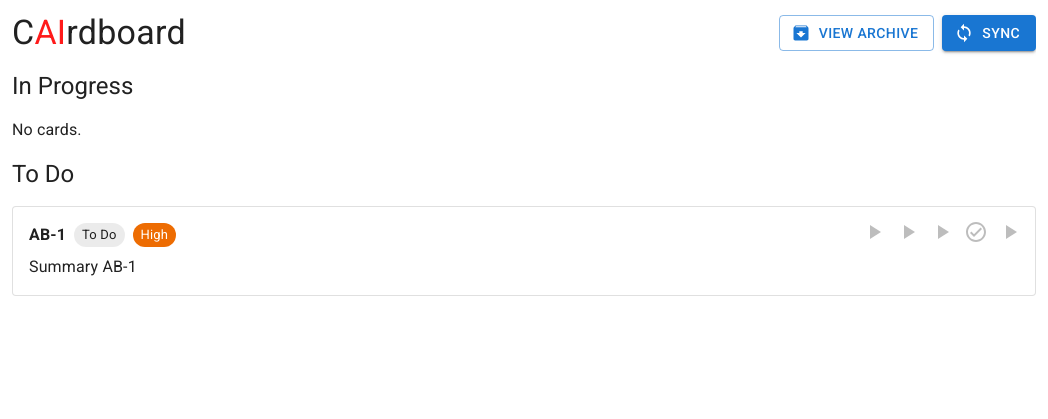
Test: Sync button refetches cards
Expected: the link "AB-1 To Do High Summary AB-1" is shown, [29,223,176,276]
Click the button "Sync".
click(989, 33)  # box [942,15,1036,51]
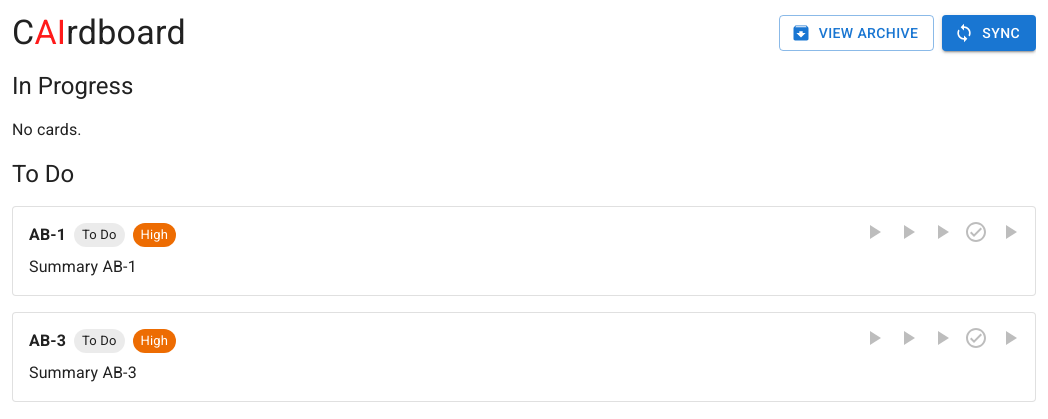
Expected: the link "AB-3 To Do High Summary AB-3" is shown, [29,329,176,382]
